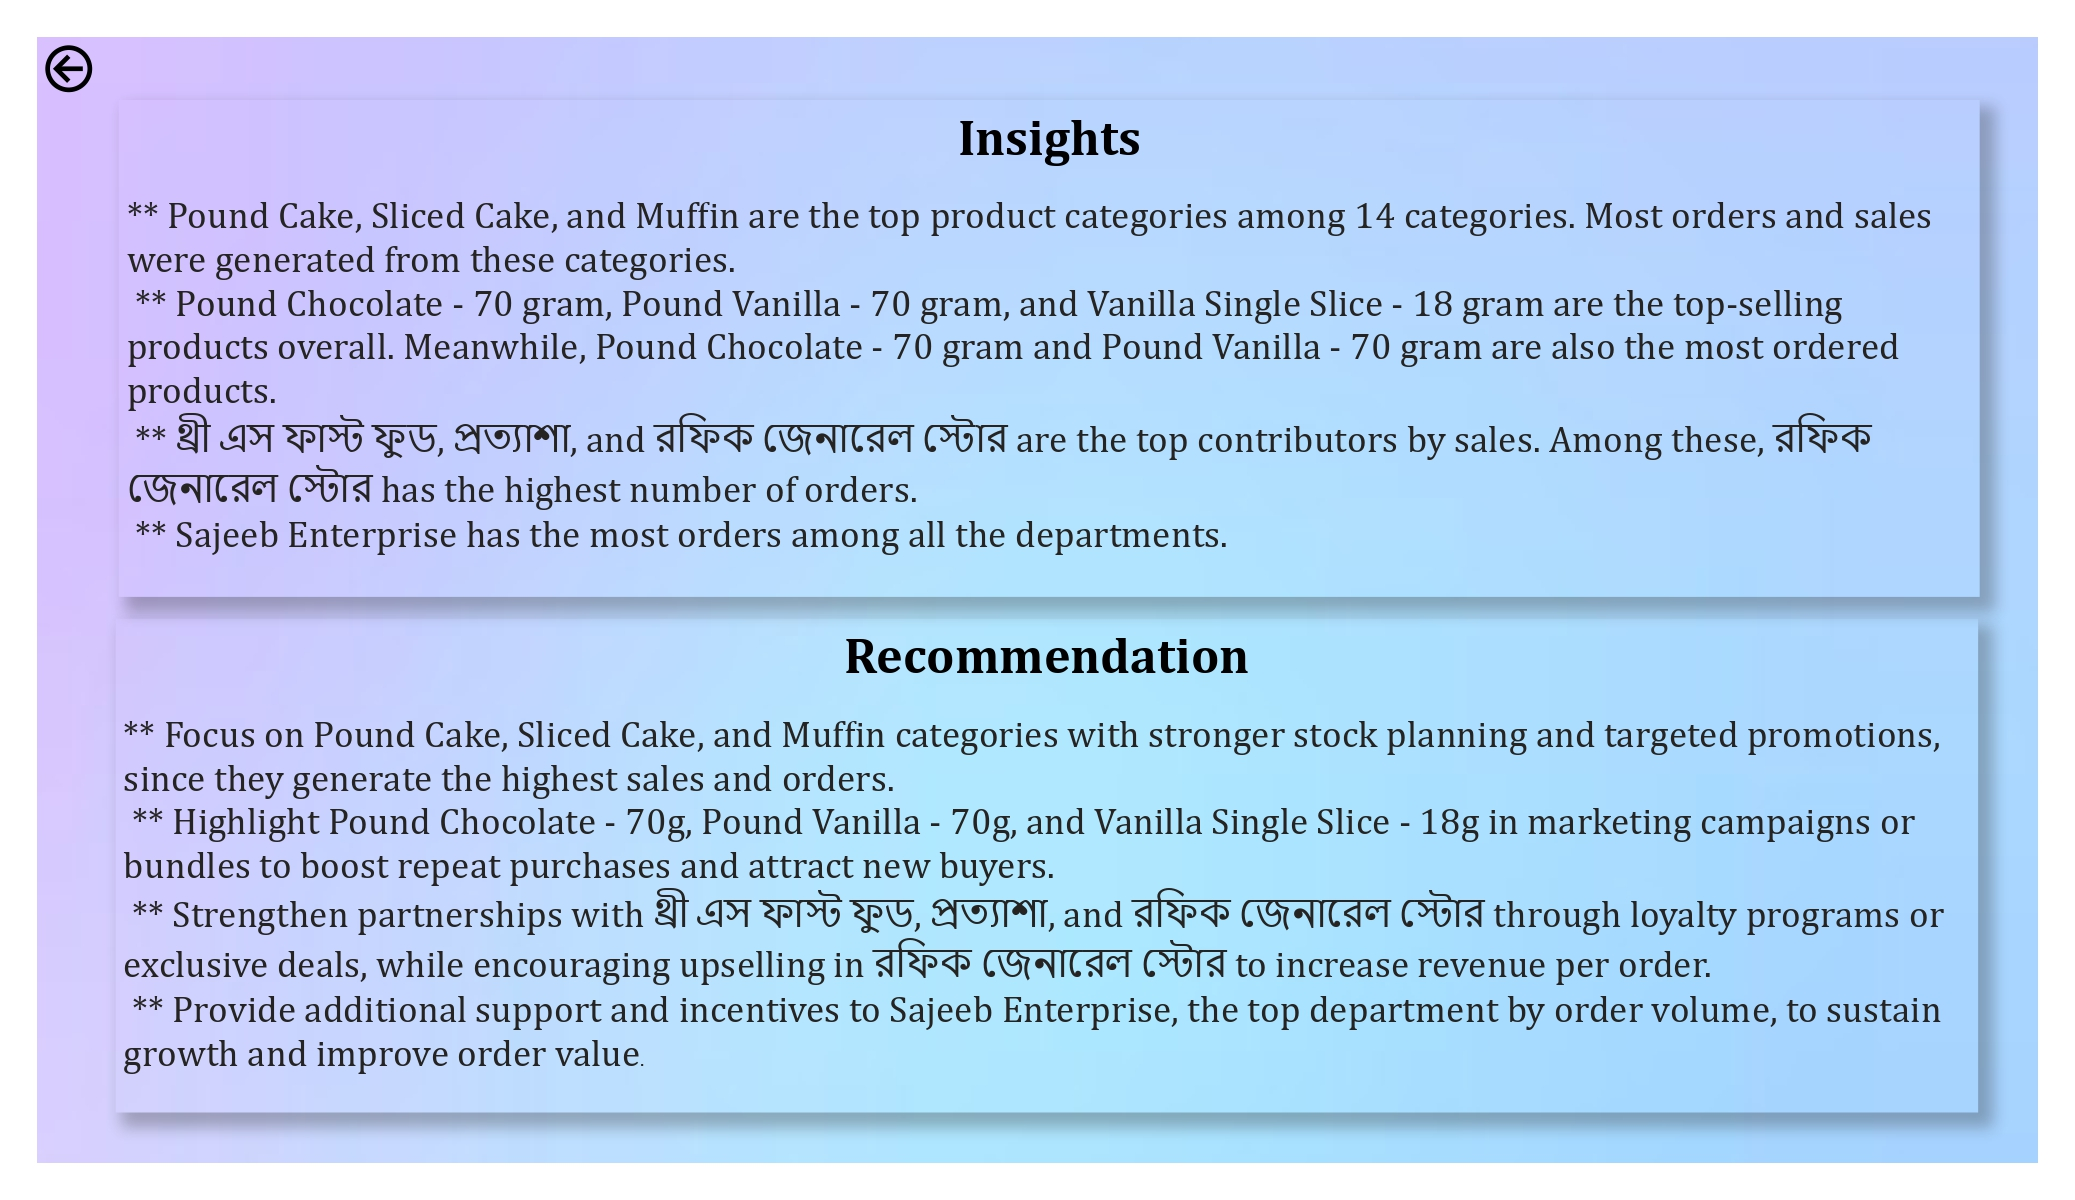

The page's visual inventory and layout, read from the dashboard file:
{"tool":"powerbi","page":{"name":"Insights & Recommendation","canvas":[1280,720],"ordinal":2},"visuals":[{"type":"textbox","box":[51.7,40,1191.7,318.3],"z":0},{"type":"textbox","box":[50,371.7,1191.7,316.7],"z":1000},{"type":"actionButton","box":[0,0,100,40],"z":2000}]}

Visuals, with their boxes on the page's 1280x720 design canvas (x1, y1, x2, y2). These are canvas units, not pixel positions in the 2075x1200 screenshot, which may show the page scaled, cropped or inside an application window:
textbox: {"x1": 52, "y1": 40, "x2": 1243, "y2": 358}
textbox: {"x1": 50, "y1": 372, "x2": 1242, "y2": 688}
actionButton: {"x1": 0, "y1": 0, "x2": 100, "y2": 40}
